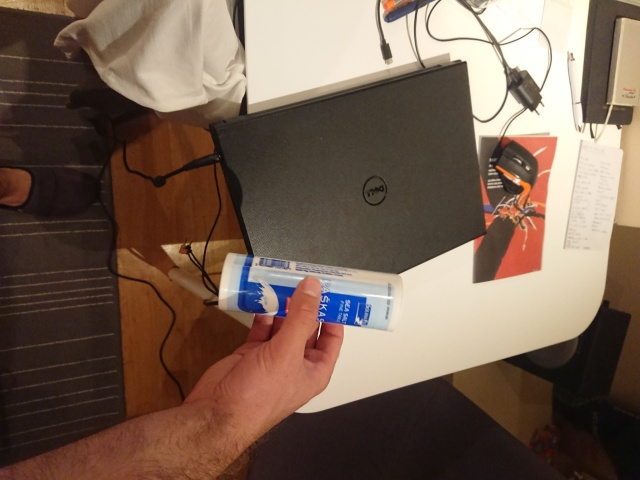Solana Pag Fine Sea Salt 250g: (216, 250, 406, 336)
